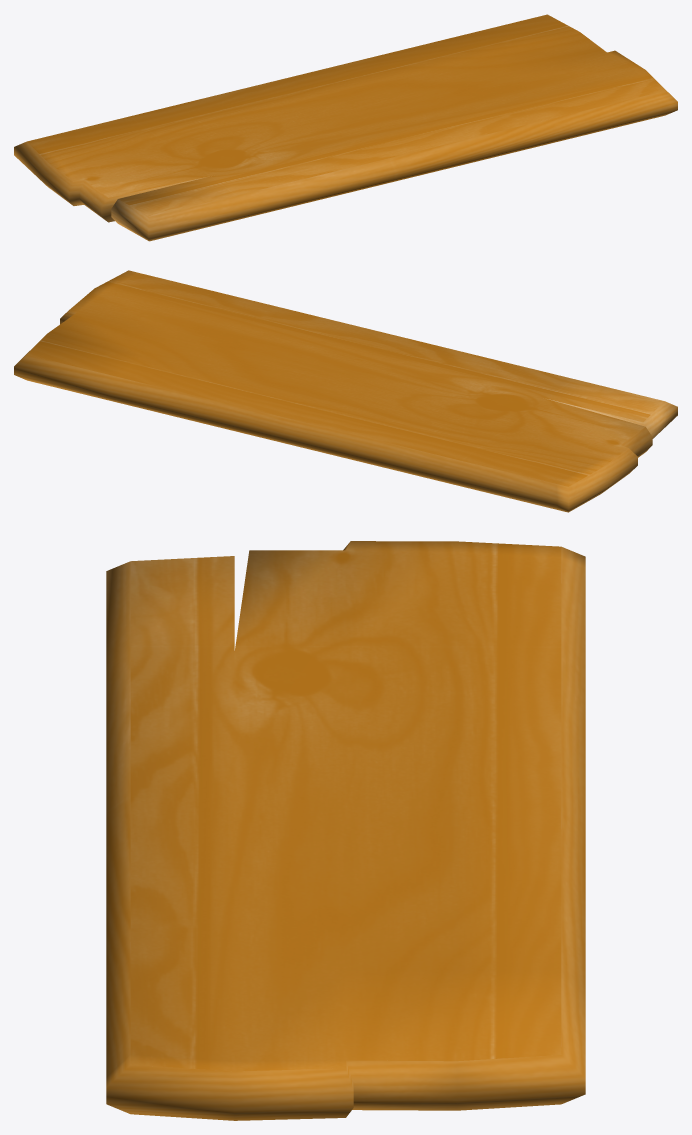
The model's file is plank.obj.
The picture shows the model from 3 angles, top to bottom: view 1: azimuth 30°, elevation 25°; view 2: azimuth 150°, elevation 25°; view 3: azimuth 270°, elevation 25°; orthographic projection. The views are drawn at different scales.
Parts seen in each view (by area): view 1: plank1; view 2: plank1; view 3: plank1.
Boxes of the visible parts, x1,y1,x2,y2 form: plank1: (14, 14, 677, 241); plank1: (14, 270, 677, 512); plank1: (106, 541, 585, 1120).
Bounding box in the file's own units: 298 × 12.67 × 111.
Materials: 1 (1 with a texture image).
